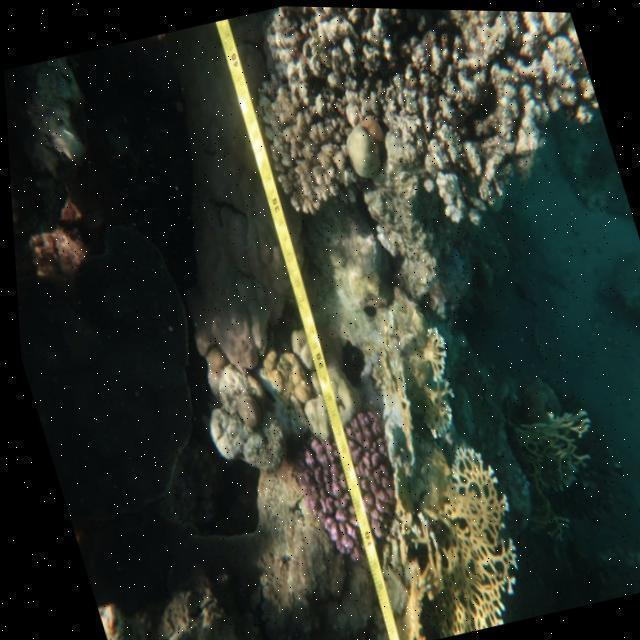Healthy Coral: (341, 426, 538, 640), (275, 400, 417, 574), (380, 310, 469, 445)
